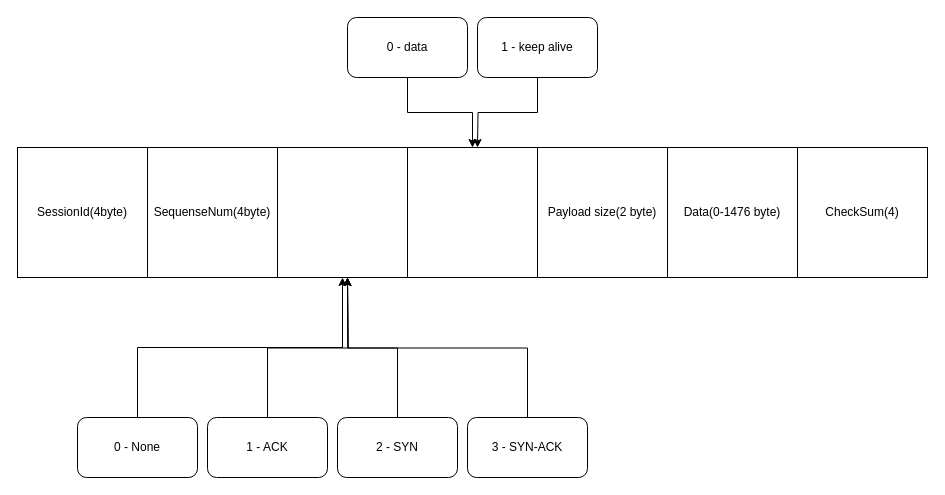
Image size: 945x495. Some labels were removed from this diagram. Here are the shapes that lost their labels. From the top down, the centre of each, then its label:
At [342,212]: "ACK Flag (1 byte)".
At [472,212]: "PayloadType".
